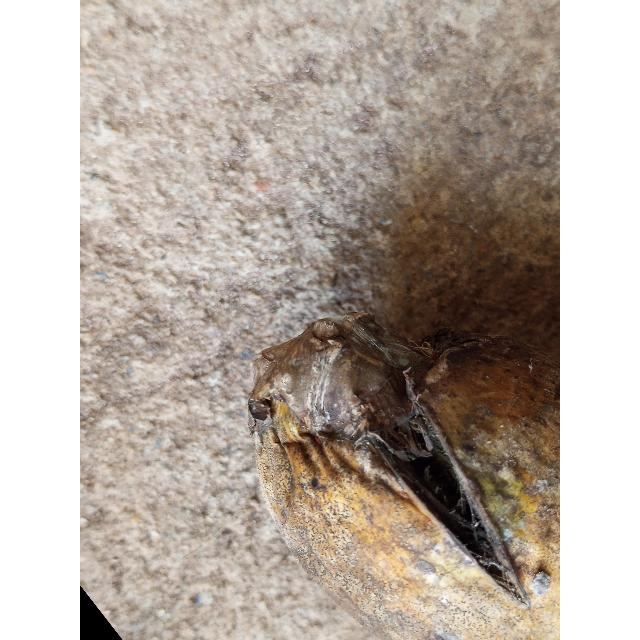damaged: (248, 313, 560, 640)
